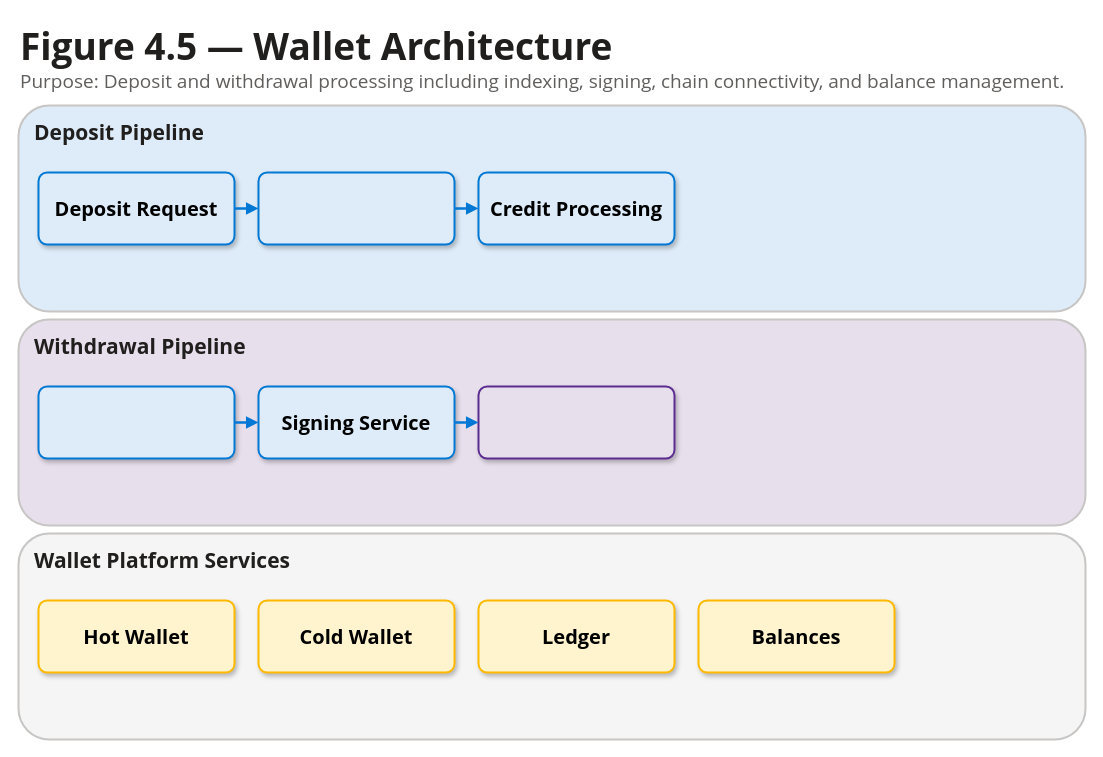
This 1103x757 diagram has some shape labels left out. The centre of each missing label's shape, as x and y in pixels:
"Blockchain Indexer" goes at [357,209].
"Chain Broadcast" goes at [577,423].
"Withdrawal Request" goes at [137,423].
